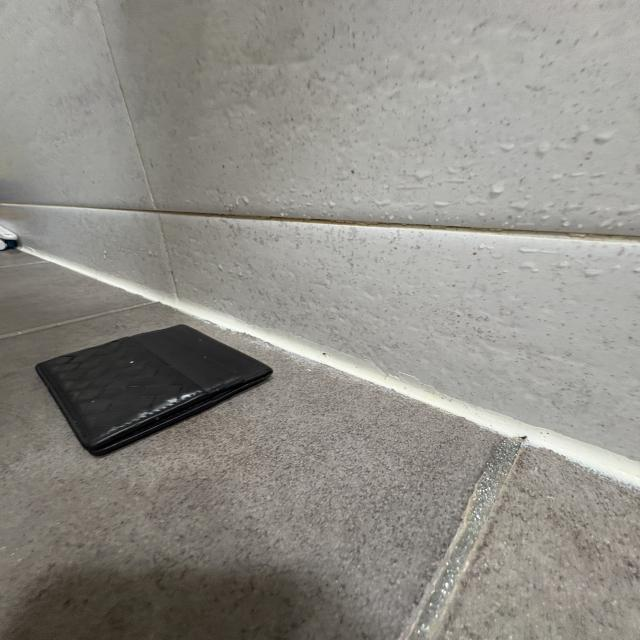wallet: (38, 326, 277, 458)
